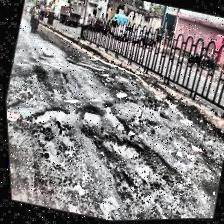pothole: (95, 99, 141, 143), (98, 131, 144, 165), (26, 100, 68, 134), (78, 102, 104, 128)
